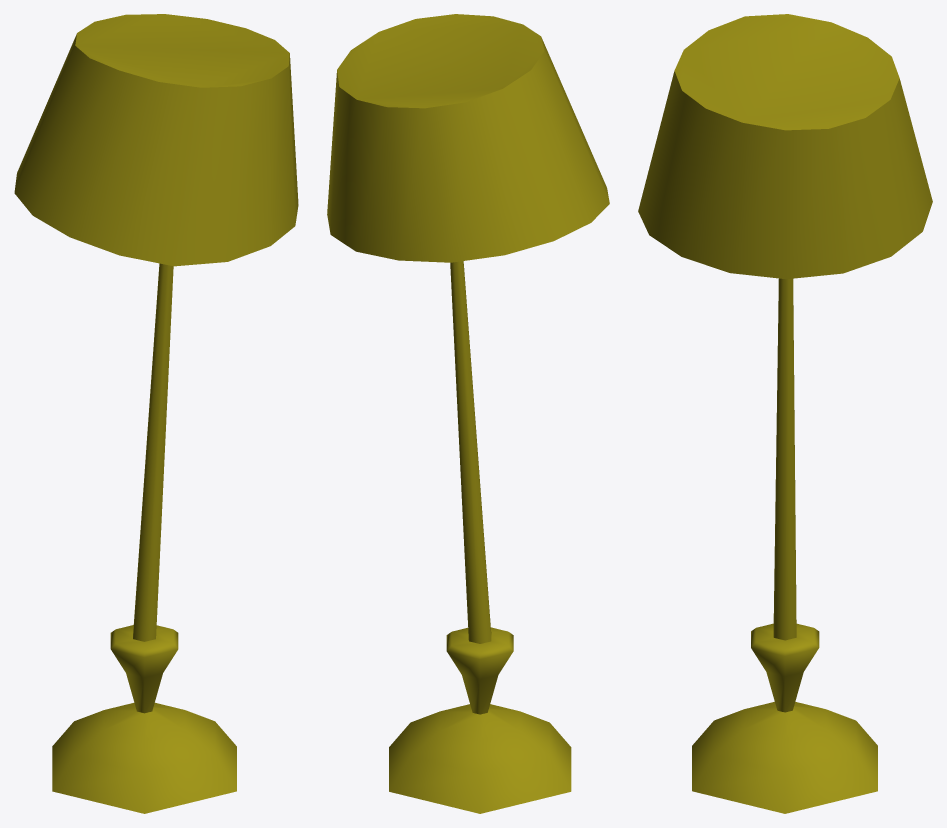
The model's file is FloorLamp.obj.
3 views of the same model, side by side, from view 1: azimuth 30°, elevation 25°; view 2: azimuth 150°, elevation 25°; view 3: azimuth 270°, elevation 25° (orthographic). The views are drawn at different scales.
Parts seen in each view (by area): view 1: FloorLamp; view 2: FloorLamp; view 3: FloorLamp.
Part boxes in pixels (x1,y1,x2,y2): FloorLamp: [14, 14, 298, 813]; FloorLamp: [327, 14, 609, 813]; FloorLamp: [638, 14, 932, 813].
Bounding box in the file's own units: 76.98 × 215 × 78.61.
